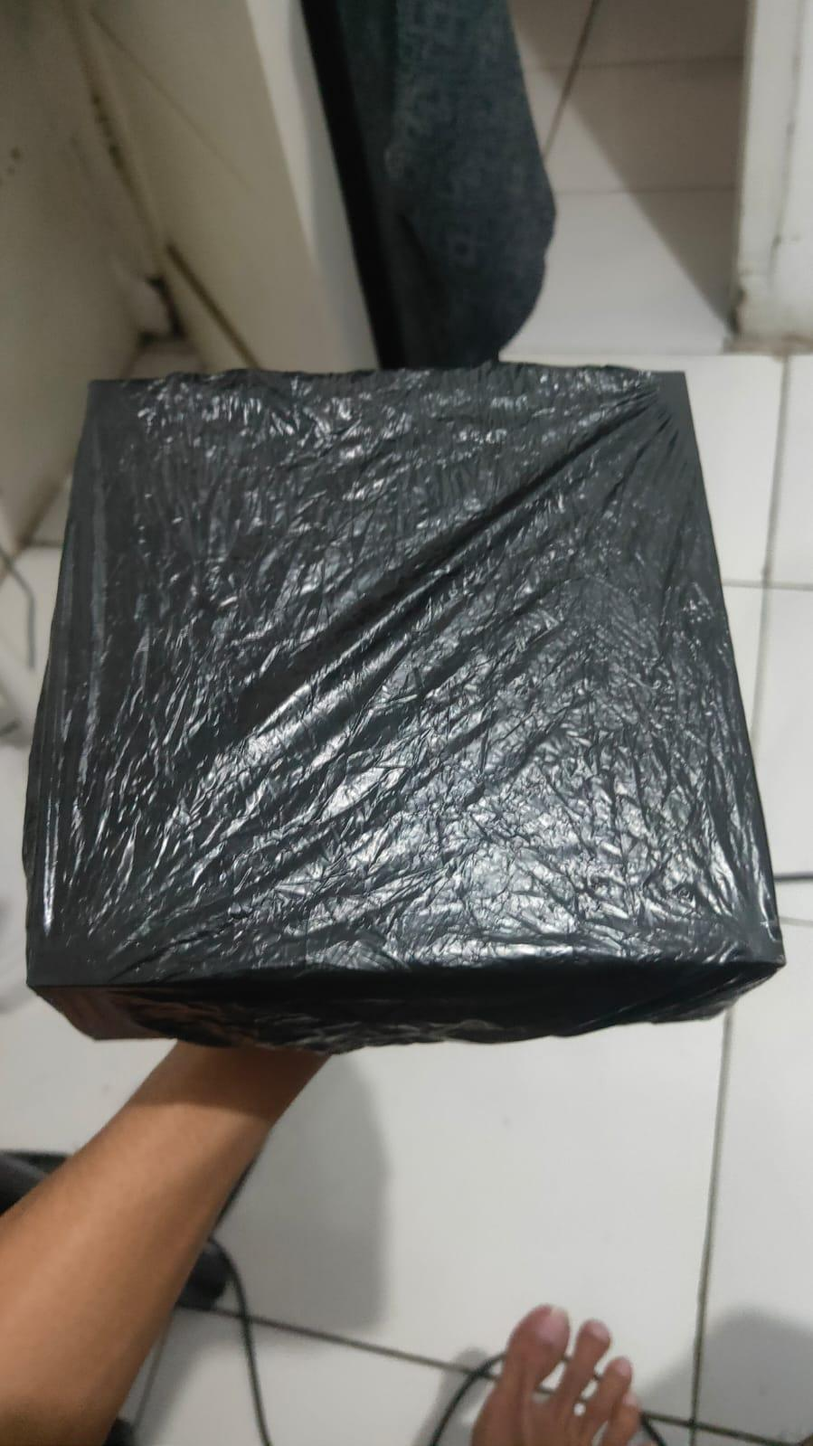undamaged: (13, 353, 794, 1059)
